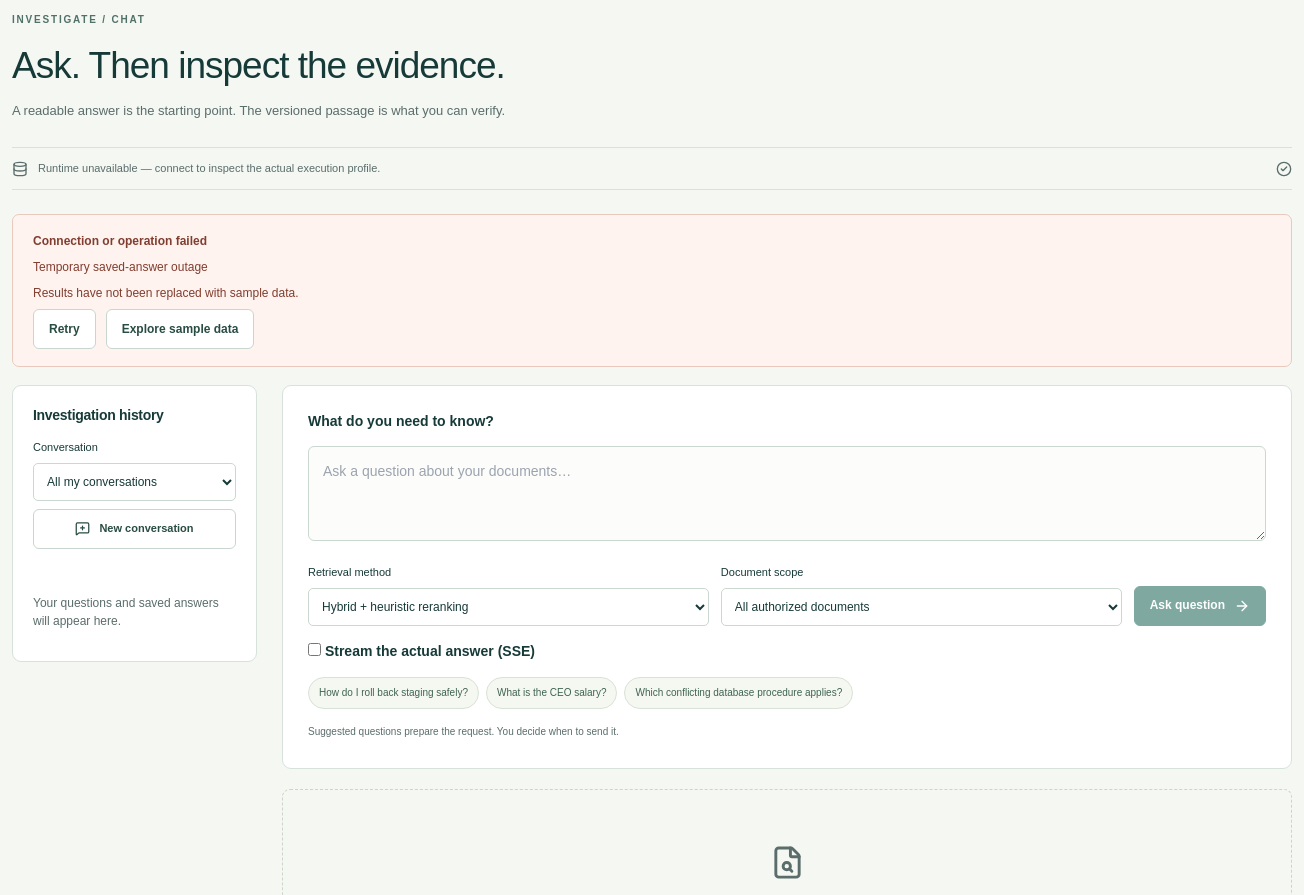
it: connected chat request lifecycle › retries the failed saved-answer read instead of only refreshing shared state
Expected: the text "Temporary saved-answer outage" is shown, [33, 260, 208, 274]
Click the button "Retry" at point(64, 329), box [33, 309, 96, 349]
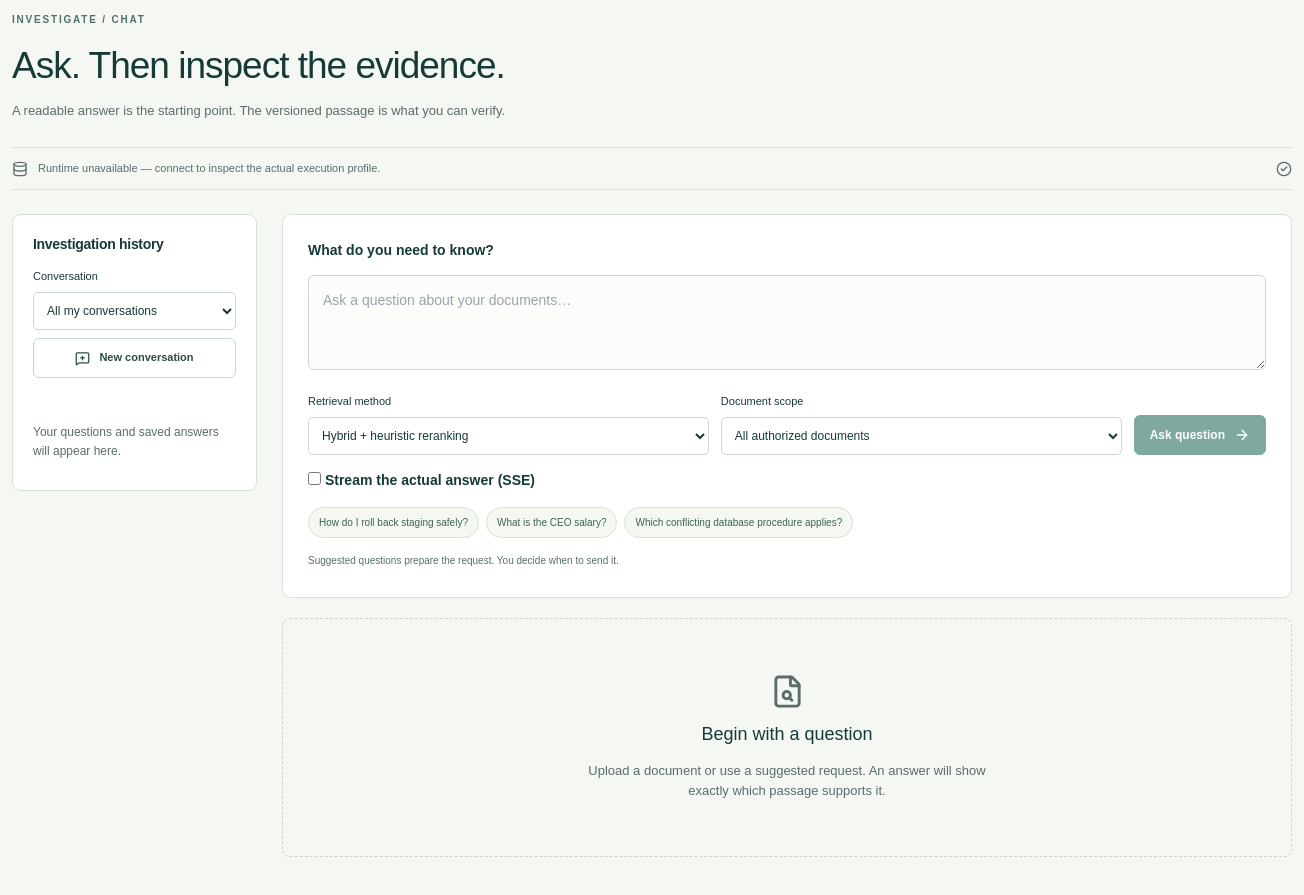
Expected: the text "Temporary saved-answer outage" is gone
